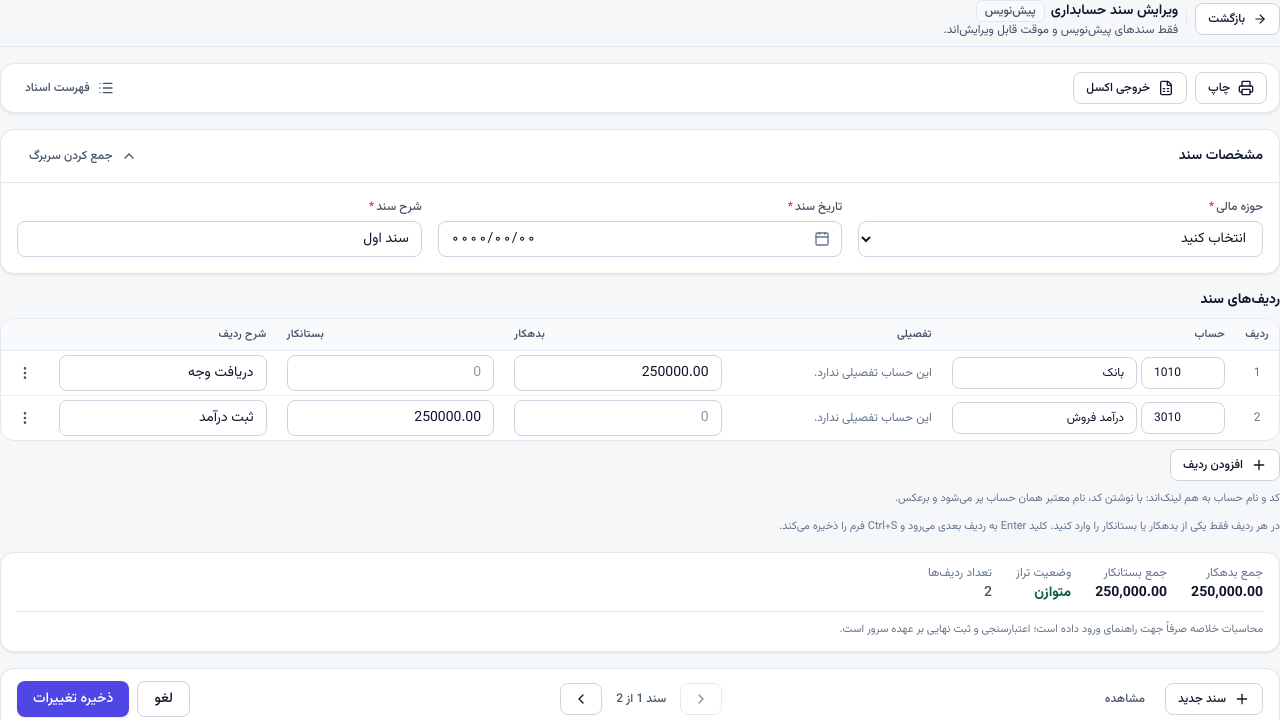
Operational Form full user journey — Collapsible Header, Detail Grid, Summary & Dirty Pagination › guards unsaved changes before navigating between documents via Footer pagination
Check: the text with test id "document-pagination-label" reads "سند 1 از 2", box [616, 690, 666, 708]
# Modify field to make form dirty
Type " ویرایش" into the field labelled "شرح سند" at (219, 239), box [17, 221, 422, 257]
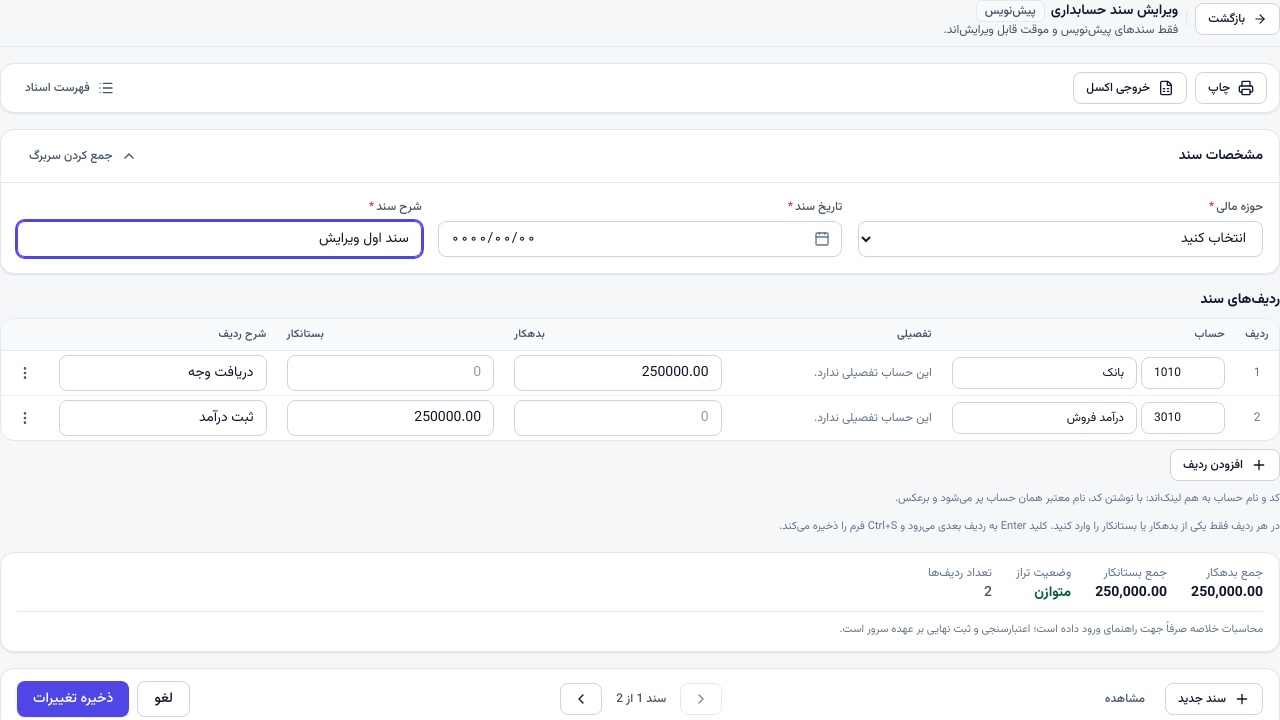
Click the button with test id "document-pagination-next" at (581, 699), box [560, 683, 602, 715]
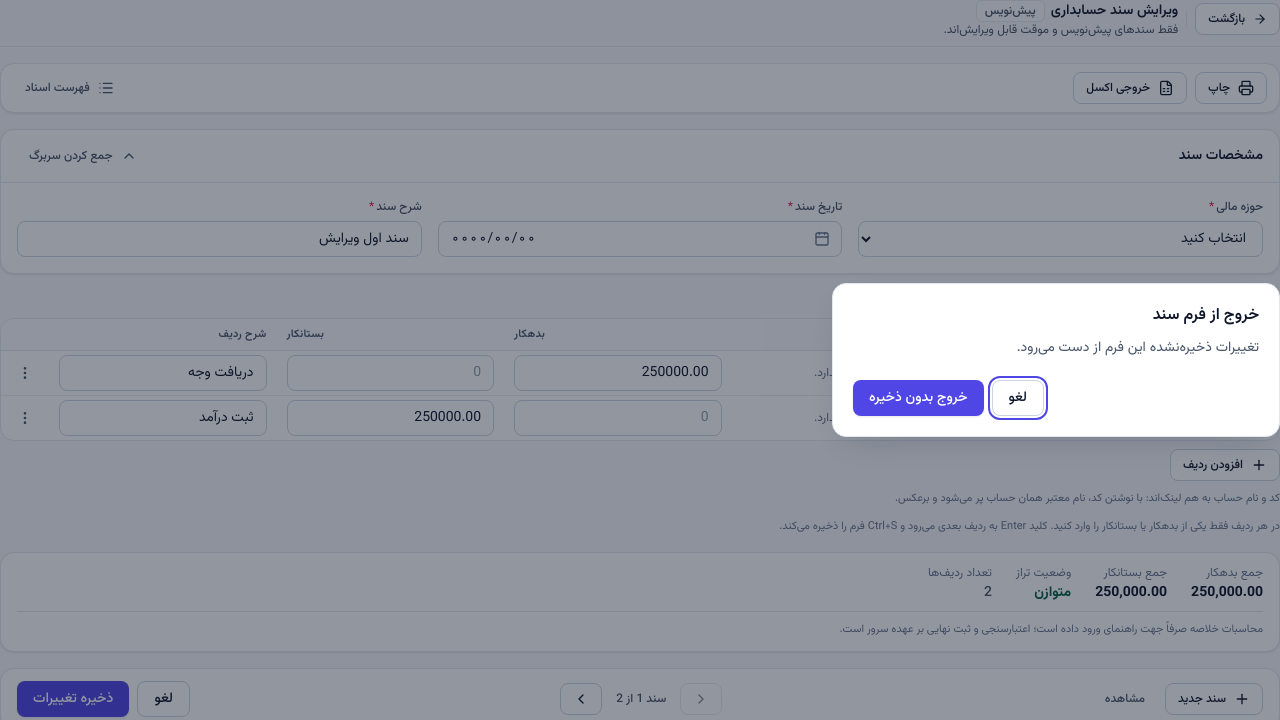
Click the button "خروج بدون ذخیره" at (918, 398), box [853, 380, 984, 416]
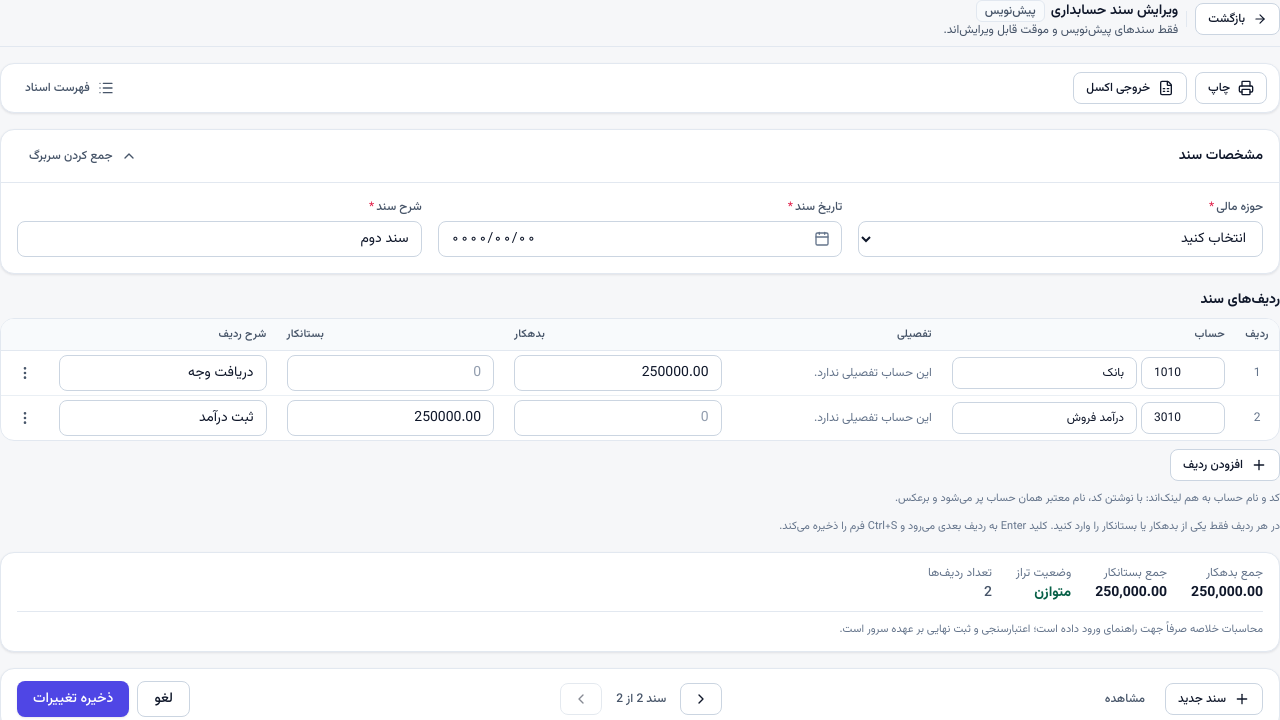
Check: the field labelled "شرح سند" holds "سند دوم", box [17, 221, 422, 257]
